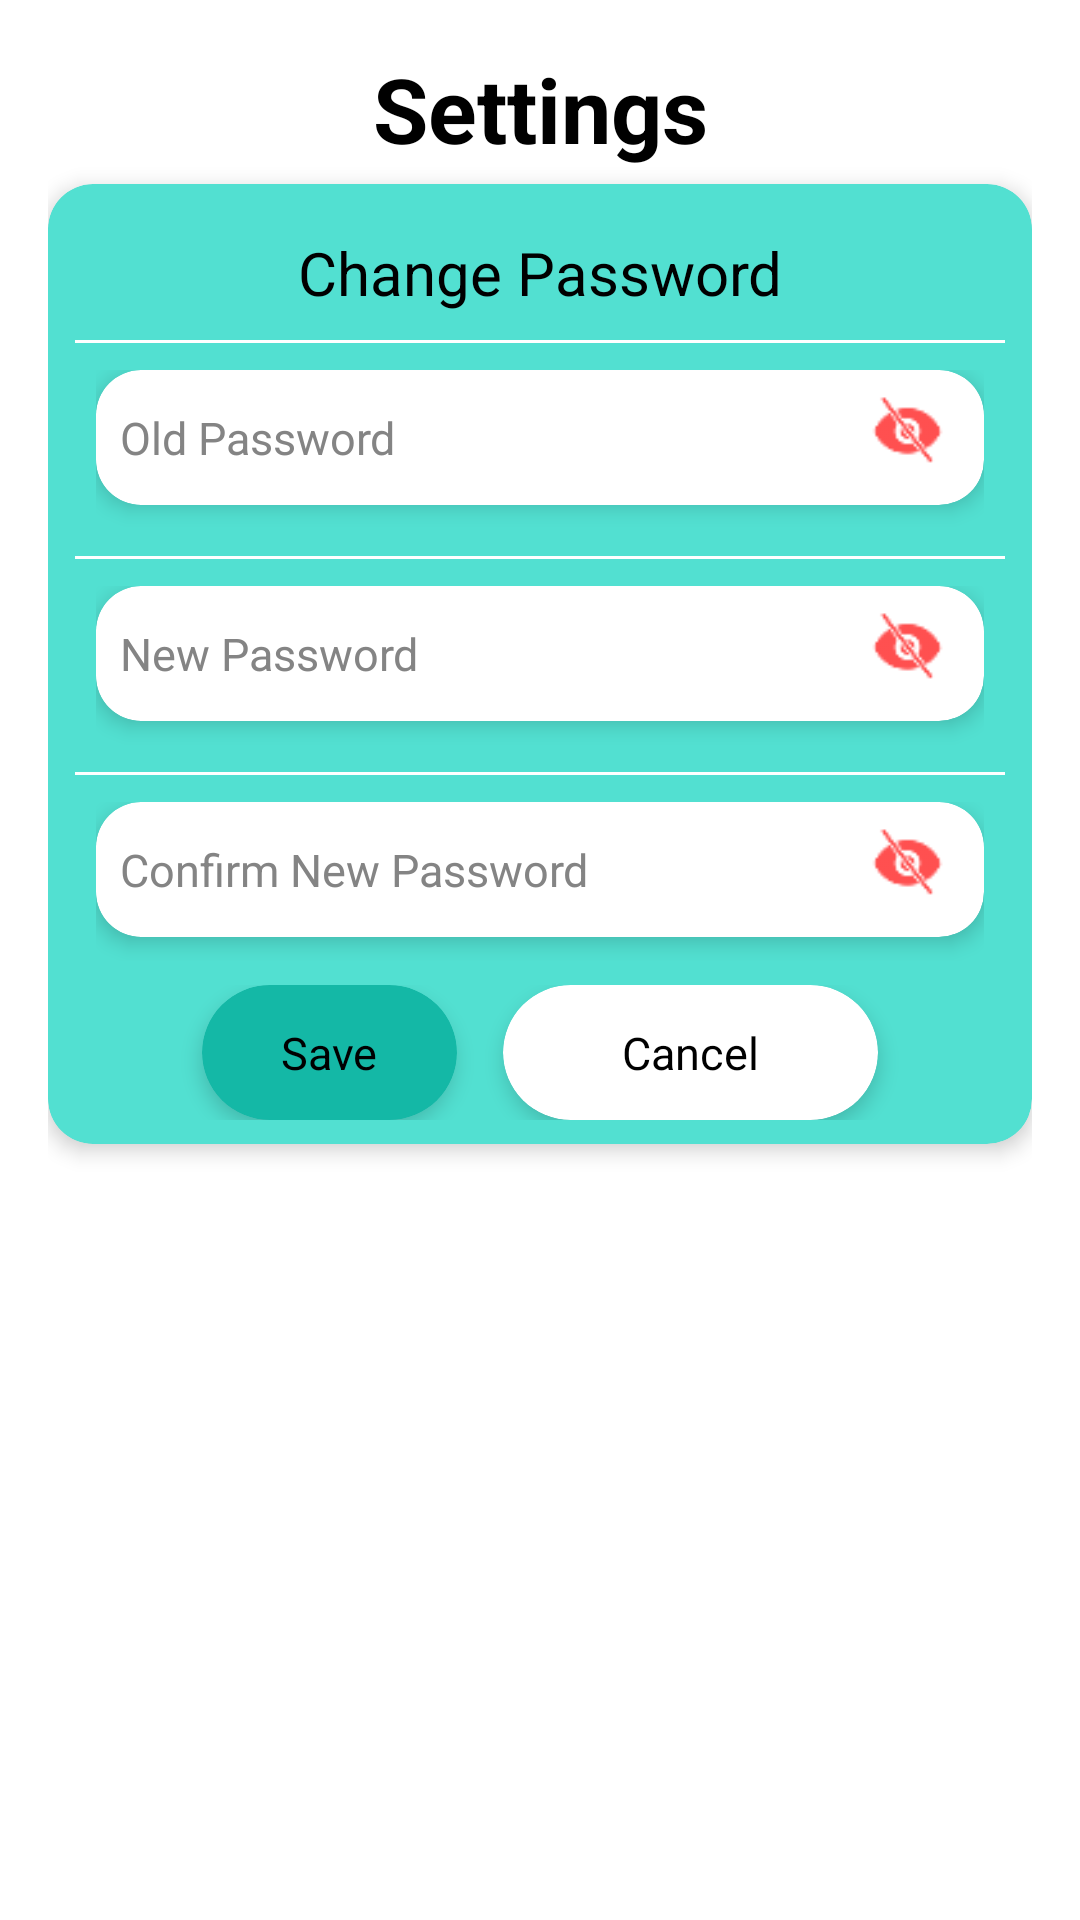

Screen size 1080px x 1920px. Icon name, then its center in pixels as [x,y]:
hide: [908,430], [908,646], [908,862]
